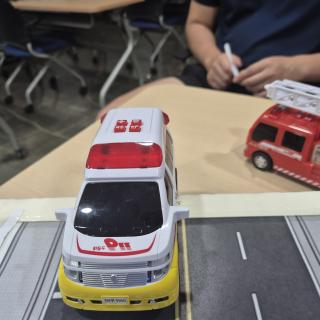Ambulance: (55, 108, 189, 311)
